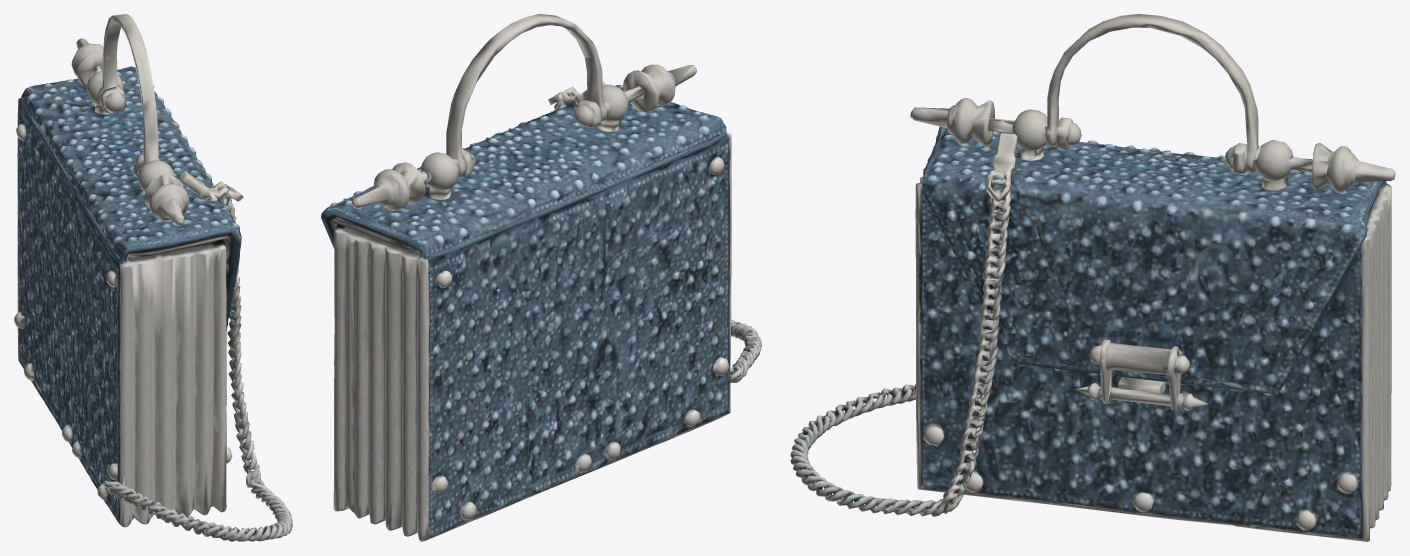
The model's file is shelf_glitter.optimized.glb.
3 renders of one model, left to right at view 1: azimuth 30°, elevation 25°; view 2: azimuth 150°, elevation 25°; view 3: azimuth 270°, elevation 25°, orthographic. The views are drawn at different scales.
Parts seen in each view (by area): view 1: tripo_node_97ee6b88-e1a0-4733-9470-9ae4f80dec09; view 2: tripo_node_97ee6b88-e1a0-4733-9470-9ae4f80dec09; view 3: tripo_node_97ee6b88-e1a0-4733-9470-9ae4f80dec09.
Part boxes in pixels (x1=…): tripo_node_97ee6b88-e1a0-4733-9470-9ae4f80dec09: x1=14, y1=14, x2=292, y2=541; tripo_node_97ee6b88-e1a0-4733-9470-9ae4f80dec09: x1=321, y1=14, x2=761, y2=541; tripo_node_97ee6b88-e1a0-4733-9470-9ae4f80dec09: x1=790, y1=14, x2=1395, y2=541.
Bounding box in the file's own units: 0.4621 × 0.8512 × 0.9782.
Materials: 1 (1 with a texture image).
